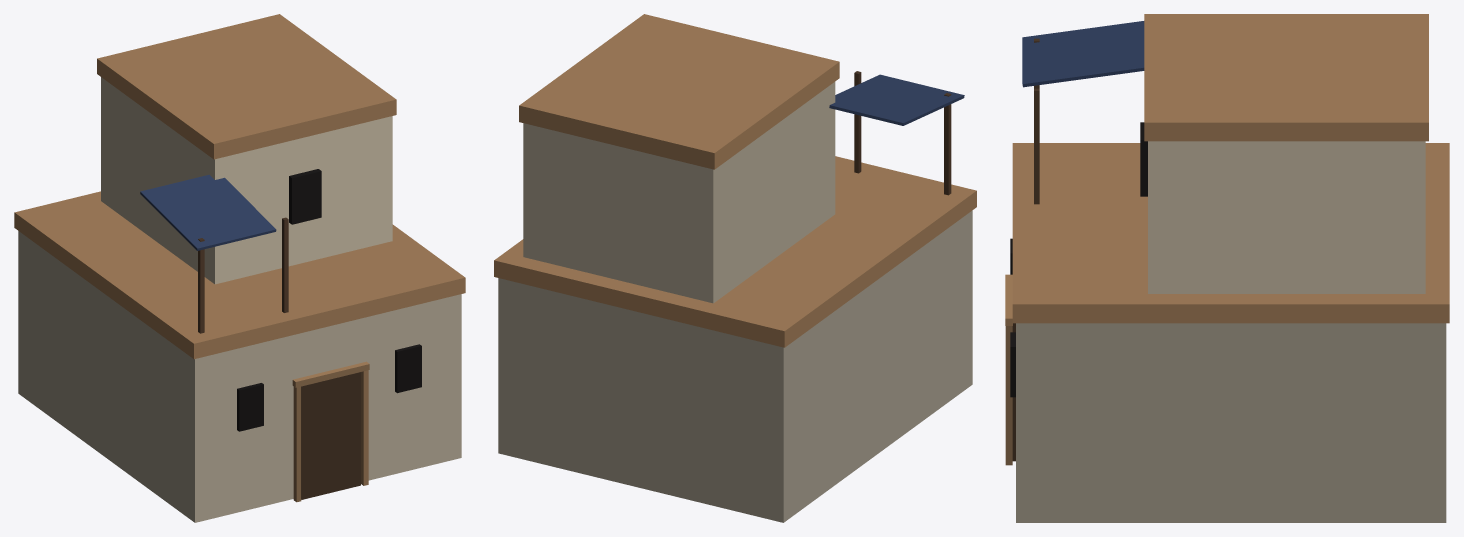
The model's file is sun_house_tall.glb.
3 renders of one model, left to right at view 1: azimuth 30°, elevation 25°; view 2: azimuth 150°, elevation 25°; view 3: azimuth 270°, elevation 25°, orthographic. The views are drawn at different scales.
Parts seen in each view (by area): view 1: sun_house_tall; view 2: sun_house_tall; view 3: sun_house_tall.
Boxes of the visible parts, <box> form: sun_house_tall: <box>14,14,465,522</box>; sun_house_tall: <box>494,14,976,522</box>; sun_house_tall: <box>1005,14,1449,522</box>.
Bounding box in the file's own units: 5.5 × 6.25 × 6.41.
1 material, 1 textured.
